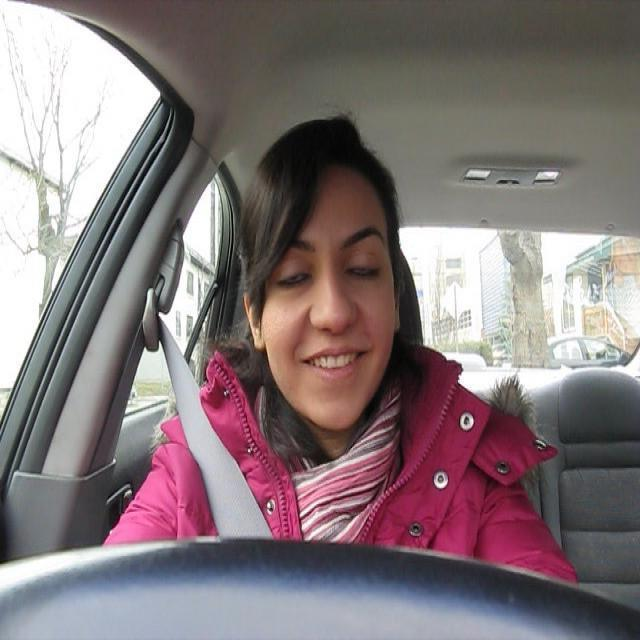close: (340, 223, 386, 293), (274, 241, 315, 298)
